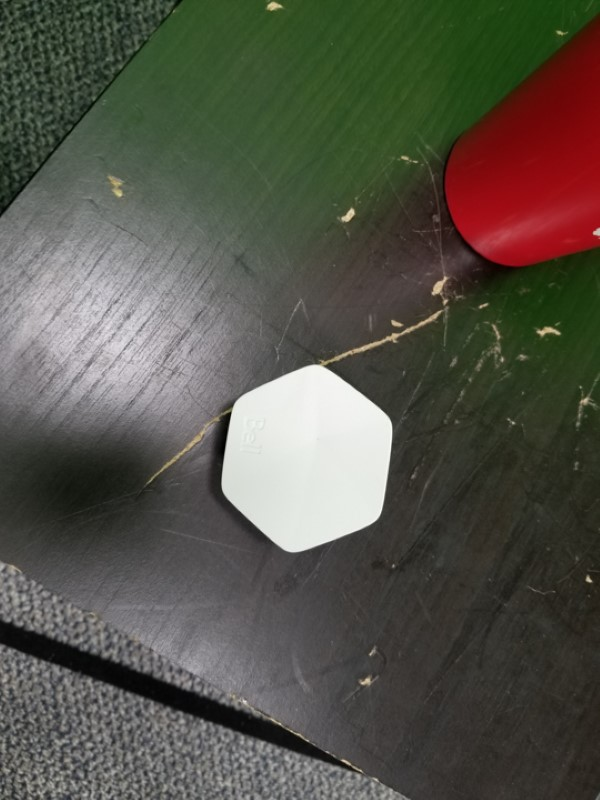pod: (211, 359, 405, 562)
